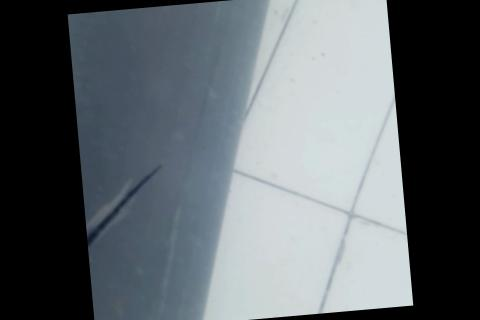keretakan: (80, 166, 170, 269)
